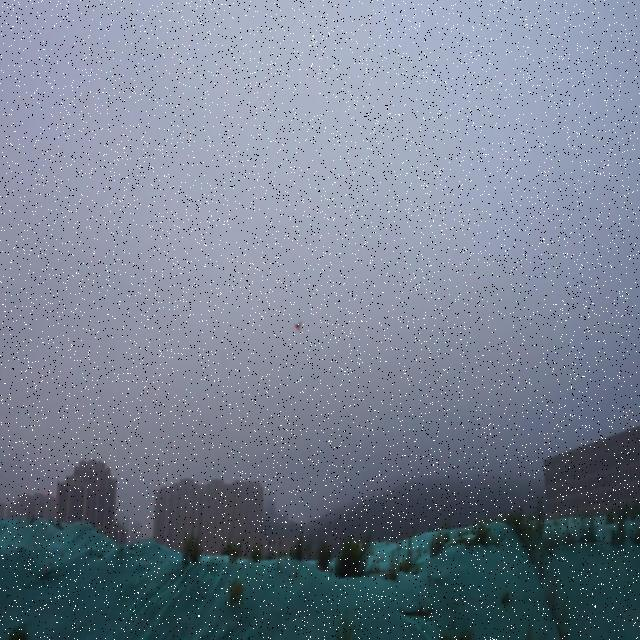UAV: (293, 320, 303, 332)
